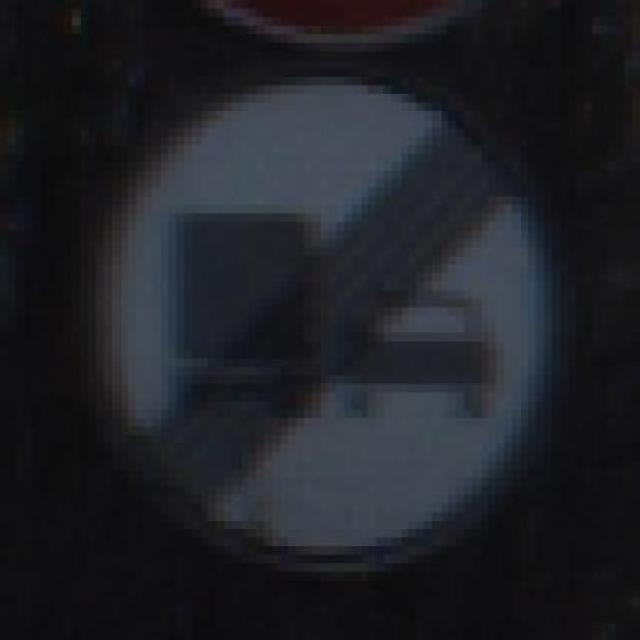Overtaking by trucks is prohibited: (40, 51, 585, 606)
